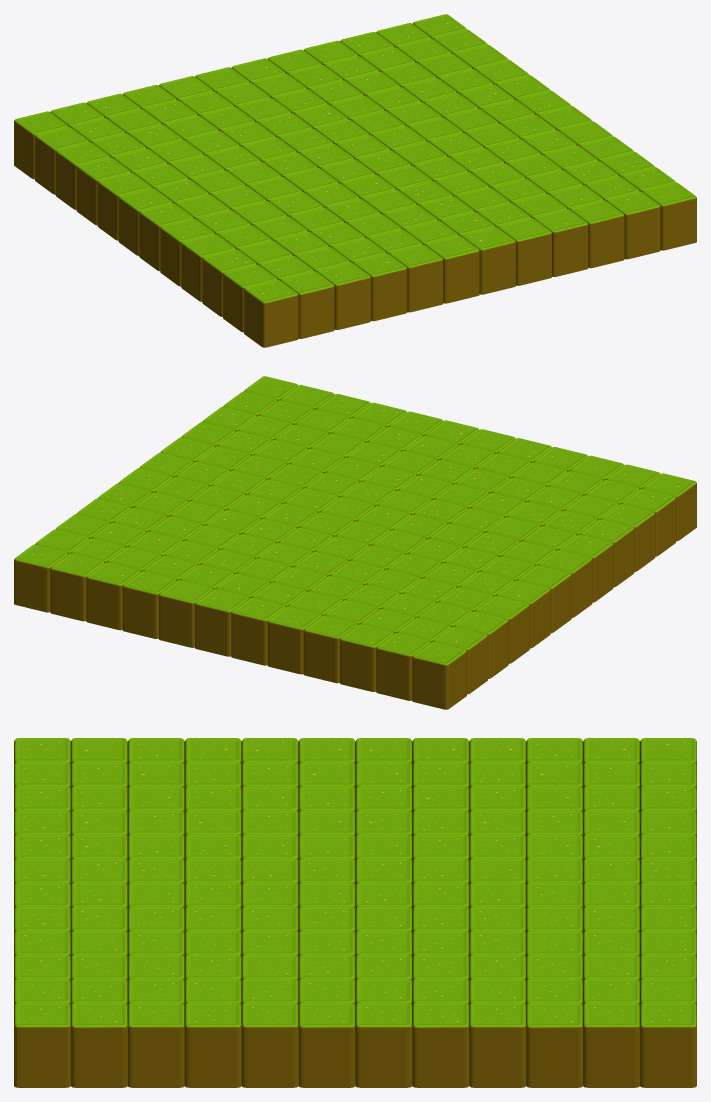
File: SM_LandBox_16.fbx
The picture shows the model from 3 angles, top to bottom: view 1: azimuth 30°, elevation 25°; view 2: azimuth 150°, elevation 25°; view 3: azimuth 270°, elevation 25°; orthographic projection. The views are drawn at different scales.
Parts seen in each view (by area): view 1: LandBox; view 2: LandBox; view 3: LandBox.
Boxes of the visible parts, bbox=[...] form: LandBox: bbox=[14, 14, 696, 347]; LandBox: bbox=[14, 376, 696, 709]; LandBox: bbox=[14, 738, 696, 1087].
Bounding box in the file's own units: 600 × 59.91 × 600.
Materials: 1 (1 with a texture image).
